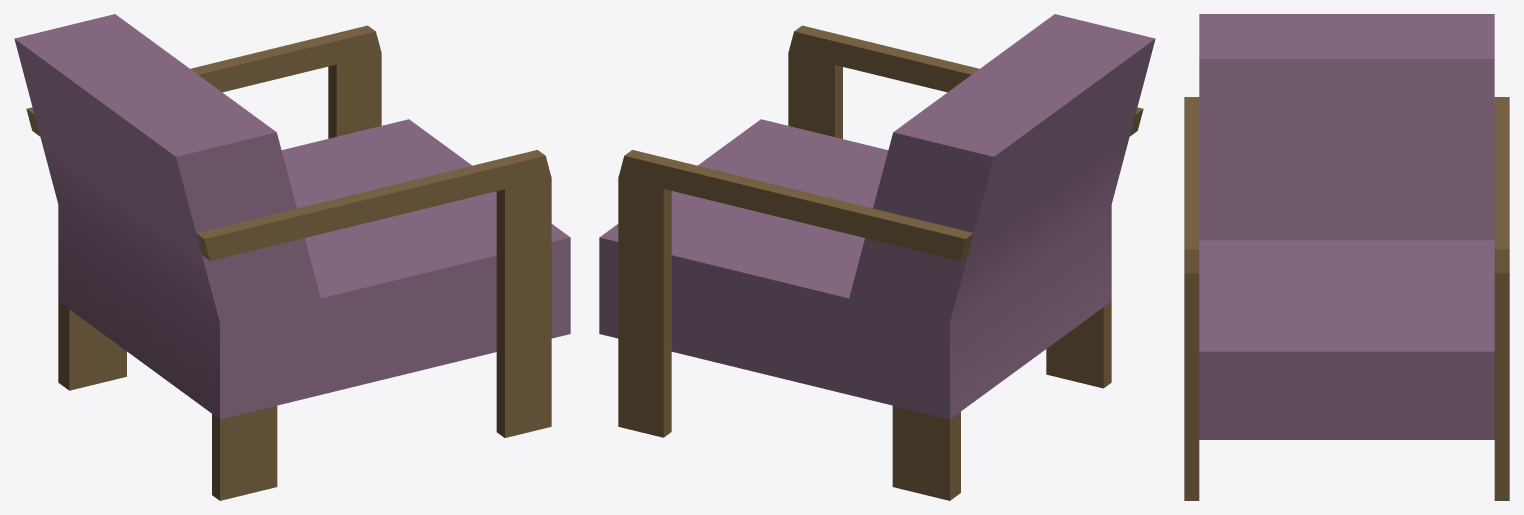
The model's file is SofaShortPink.fbx.
3 renders of one model, left to right at view 1: azimuth 30°, elevation 25°; view 2: azimuth 150°, elevation 25°; view 3: azimuth 270°, elevation 25°, orthographic. The views are drawn at different scales.
Parts seen in each view (by area): view 1: pCube4; view 2: pCube4; view 3: pCube4.
Boxes of the visible parts, box(x1,y1,x2,y2) form: pCube4: box(14, 14, 570, 500); pCube4: box(599, 14, 1155, 500); pCube4: box(1184, 14, 1509, 500).
Bounding box in the file's own units: 8.16 × 7.01 × 6.38.
